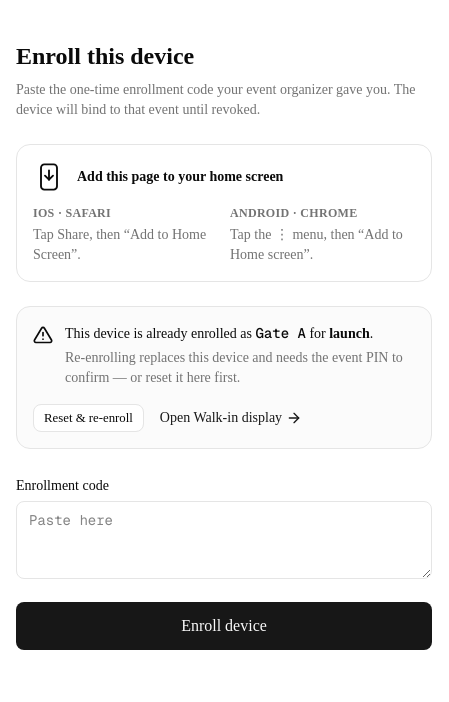
Scenario: ScannerEnrollPage already-enrolled actions › recovers (no stuck state) when the code is invalid after the PIN verifies
This screenshot has width=449, height=702.
Type "BAD-CODE" into the text box with placeholder "Paste here" at [224, 540], box [16,501,432,579]
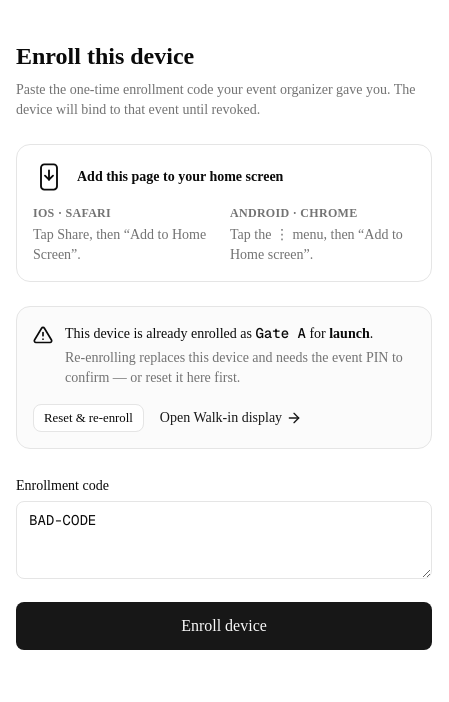
Click the button "Enroll device" at [224, 626], box [16,602,432,650]
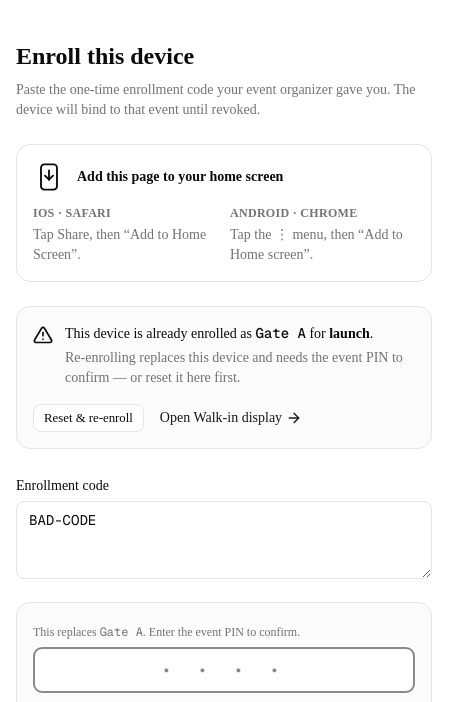
Type "1234" into the field with placeholder "• • • •" at [224, 670], box [33,647,415,693]
(page scrolled)
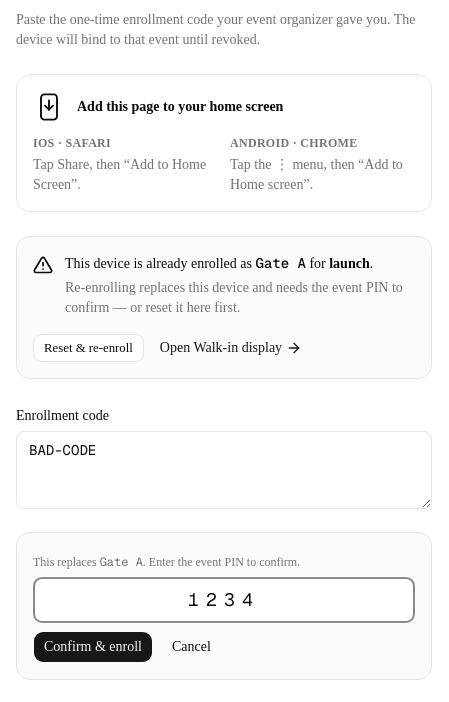
Click the button "Confirm & enroll" at [93, 647], box [33,631,153,663]
(page scrolled)
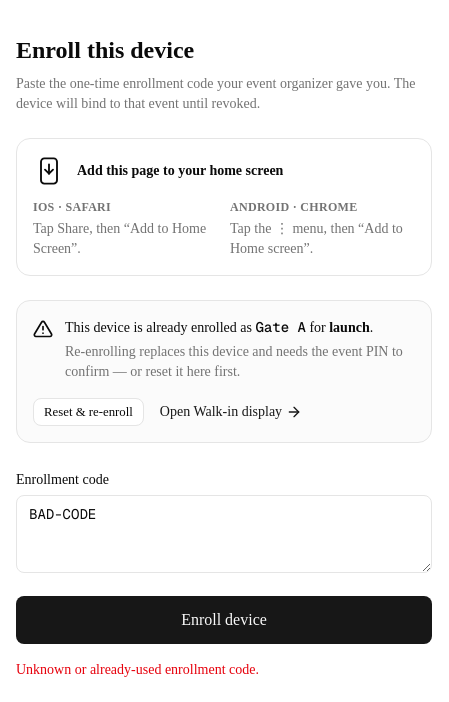
Expected: the text "Unknown or already-used enrollment code." is shown, [16,662,259,677]
Expected: the button "Enroll device" is shown, [16,596,432,644]
